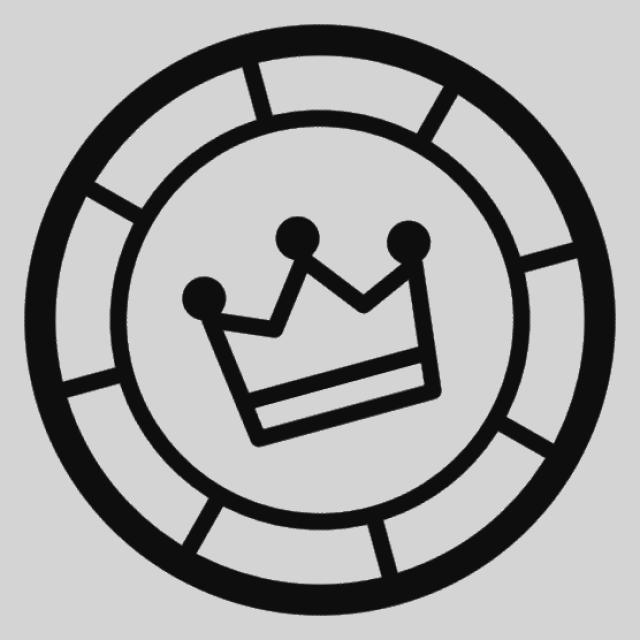coin: (16, 17, 625, 628)
